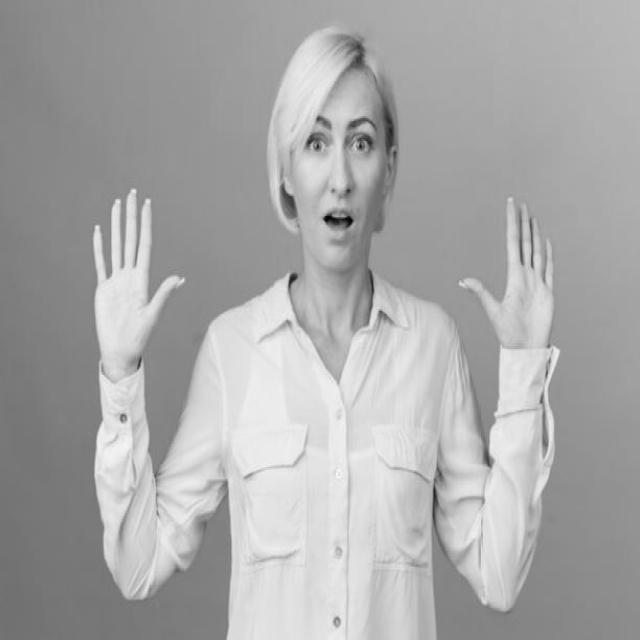stop: (88, 182, 189, 373)
